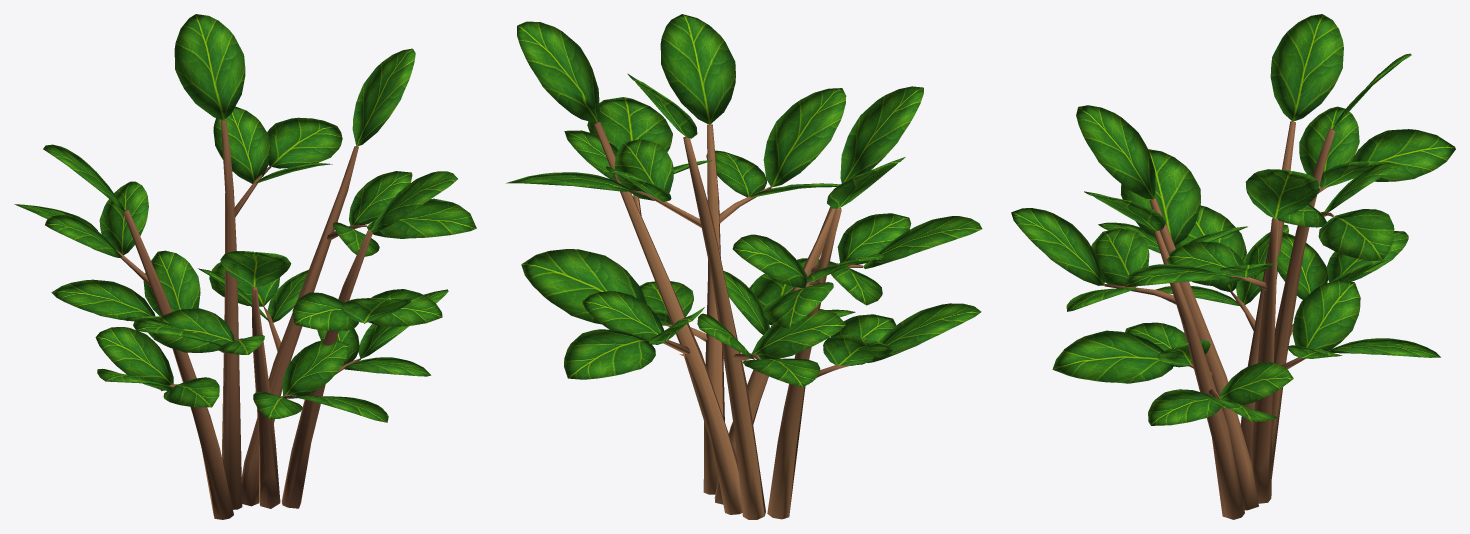
The model's file is NP_Blackberry_Young_LOD1.fbx.
3 renders of one model, left to right at view 1: azimuth 30°, elevation 25°; view 2: azimuth 150°, elevation 25°; view 3: azimuth 270°, elevation 25°, orthographic. The views are drawn at different scales.
Visible parts, largest first — view 1: NP_Blackberry_Young; view 2: NP_Blackberry_Young; view 3: NP_Blackberry_Young.
Boxes of the visible parts, x1,y1,x2,y2 form: NP_Blackberry_Young: [14, 14, 476, 519]; NP_Blackberry_Young: [506, 14, 982, 519]; NP_Blackberry_Young: [1011, 14, 1455, 519].
Bounding box in the file's own units: 45.86 × 50.38 × 44.67.
